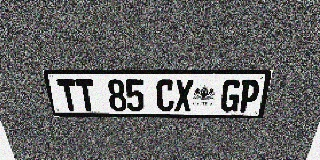5: (125, 79, 145, 111)
8: (107, 79, 127, 111)
C: (156, 79, 174, 112)
G: (220, 79, 242, 112)
P: (237, 80, 261, 112)
T: (56, 79, 80, 111), (75, 79, 97, 111)
X: (174, 79, 193, 112)
